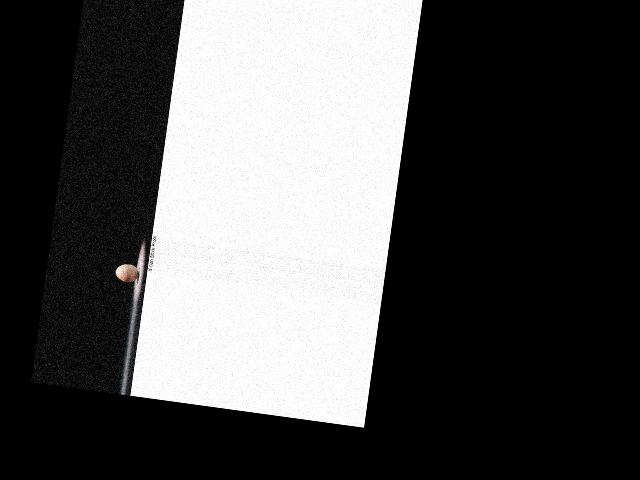egg: (114, 262, 140, 283)
